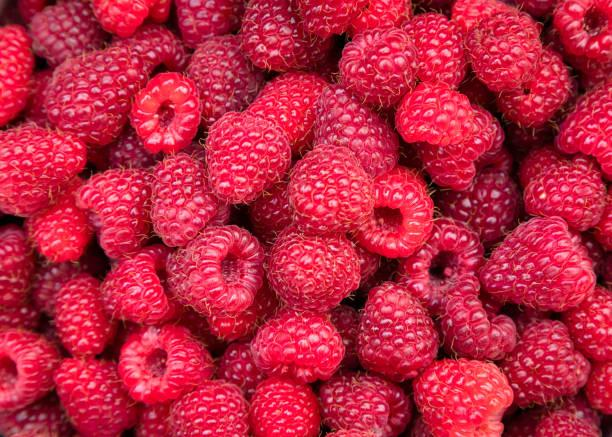peas: (0, 0, 610, 436)
